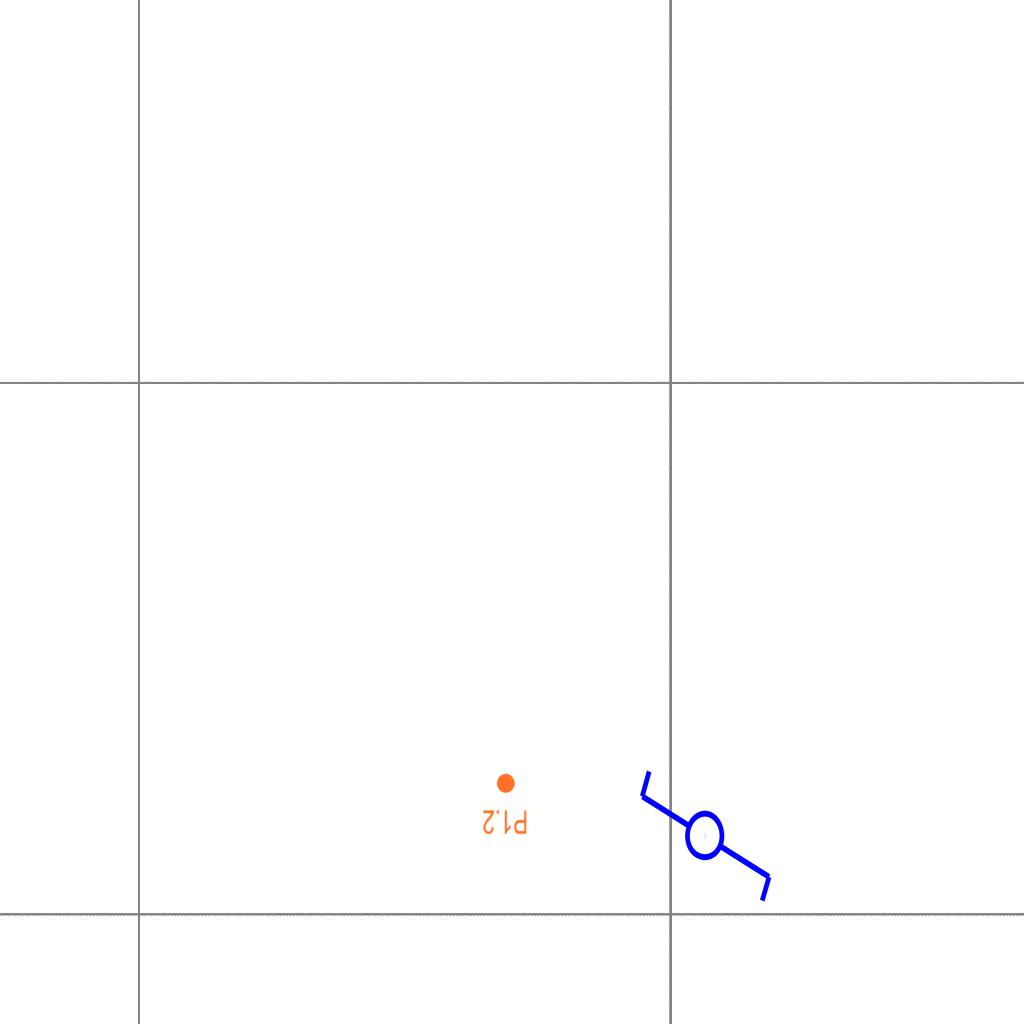Downlight_LED_Einbauleuchten_Flur: (482, 772, 528, 836)
Wechselschalter: (635, 749, 779, 906)
